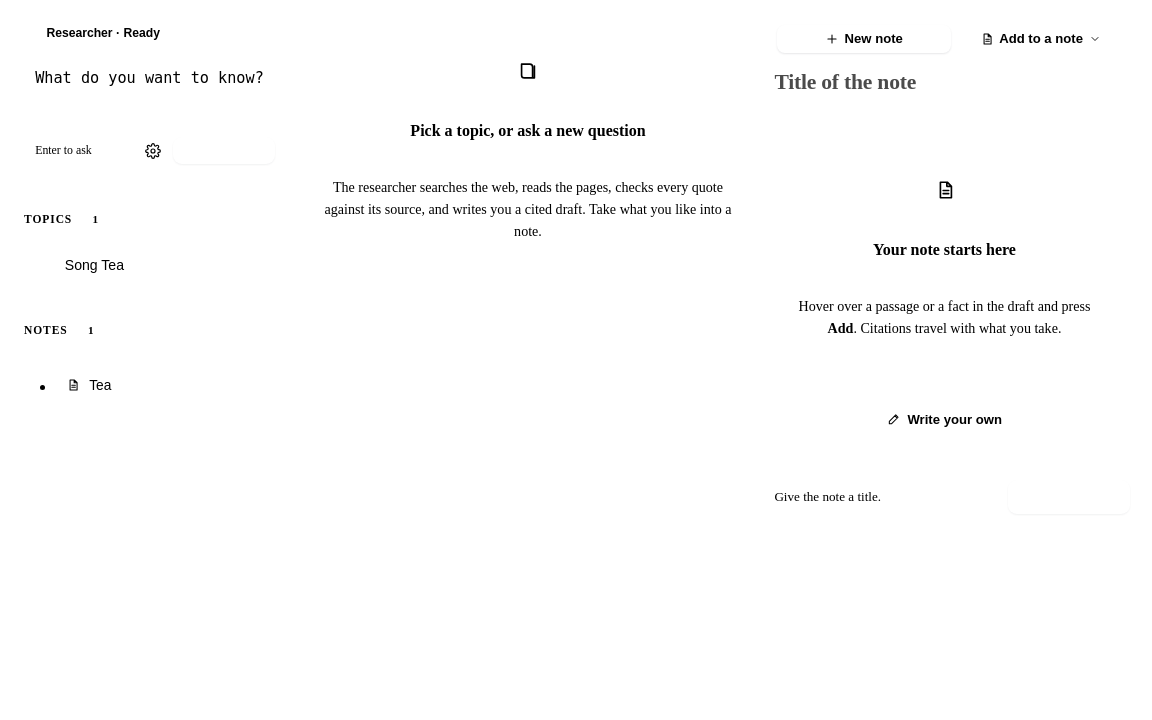
Scenario: Studio › keeps a whole draft as a note, and says where it went
Click the button "Song Tea" at [159, 265], box [46, 250, 273, 280]
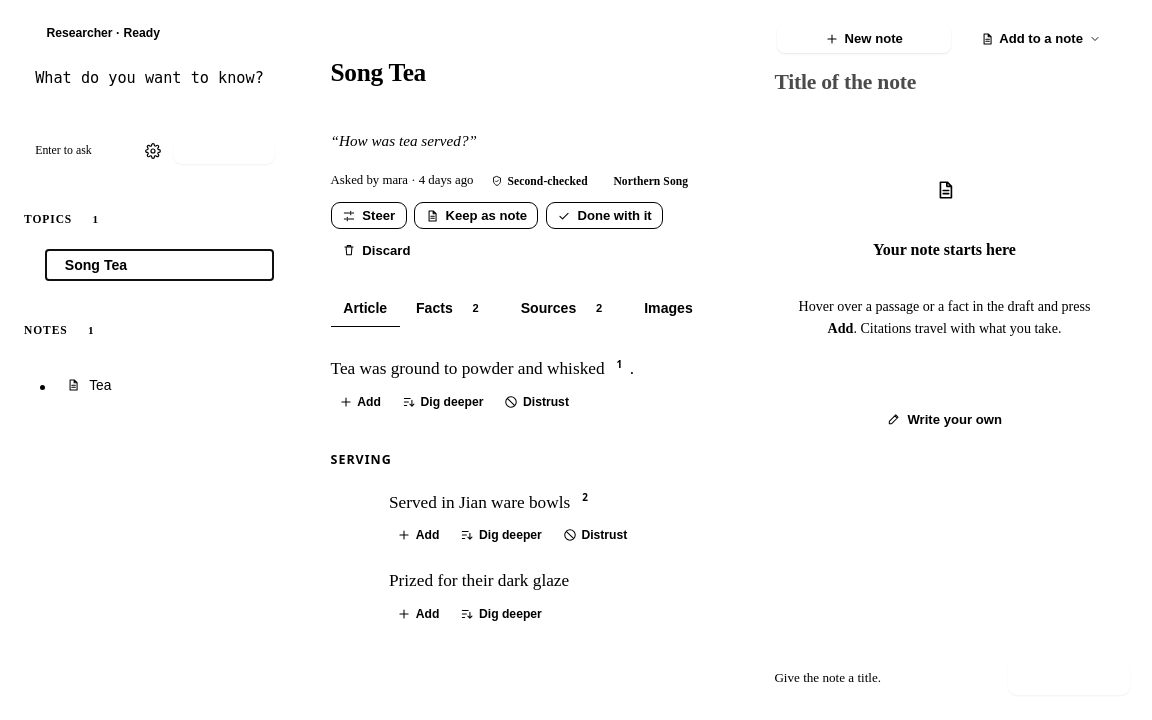
Click the button "Keep as note" at [476, 216], box [414, 202, 538, 230]
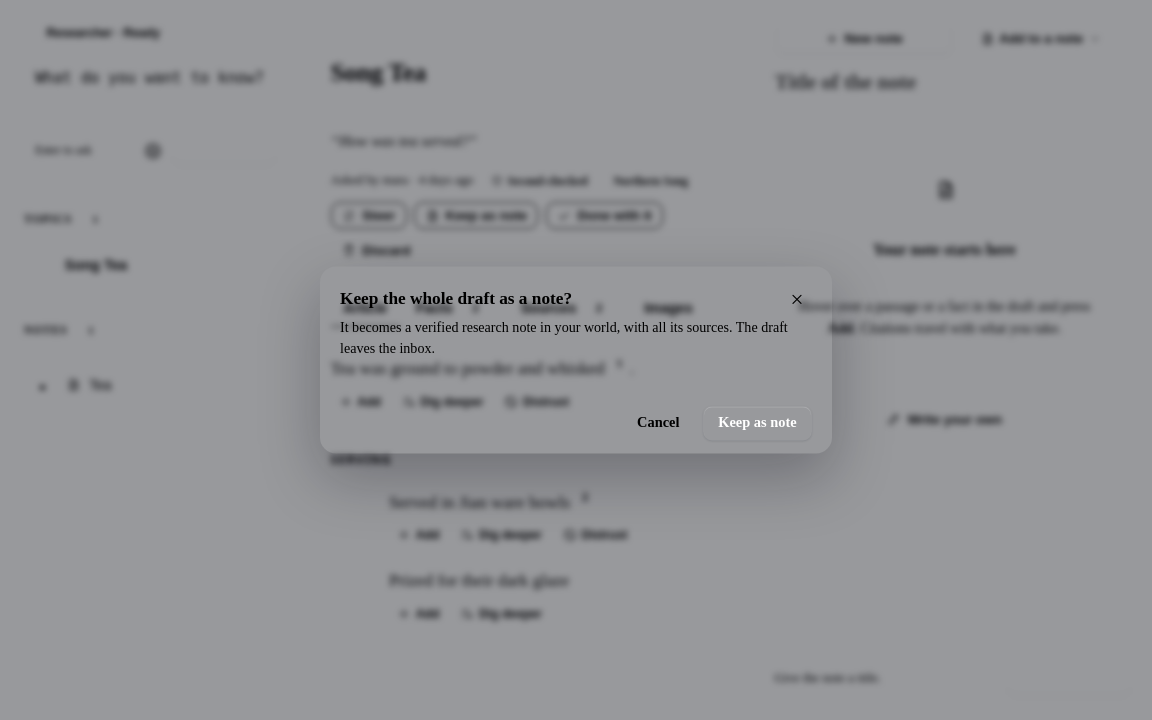
Click the button "Keep as note" at [757, 422], box [703, 405, 812, 440]
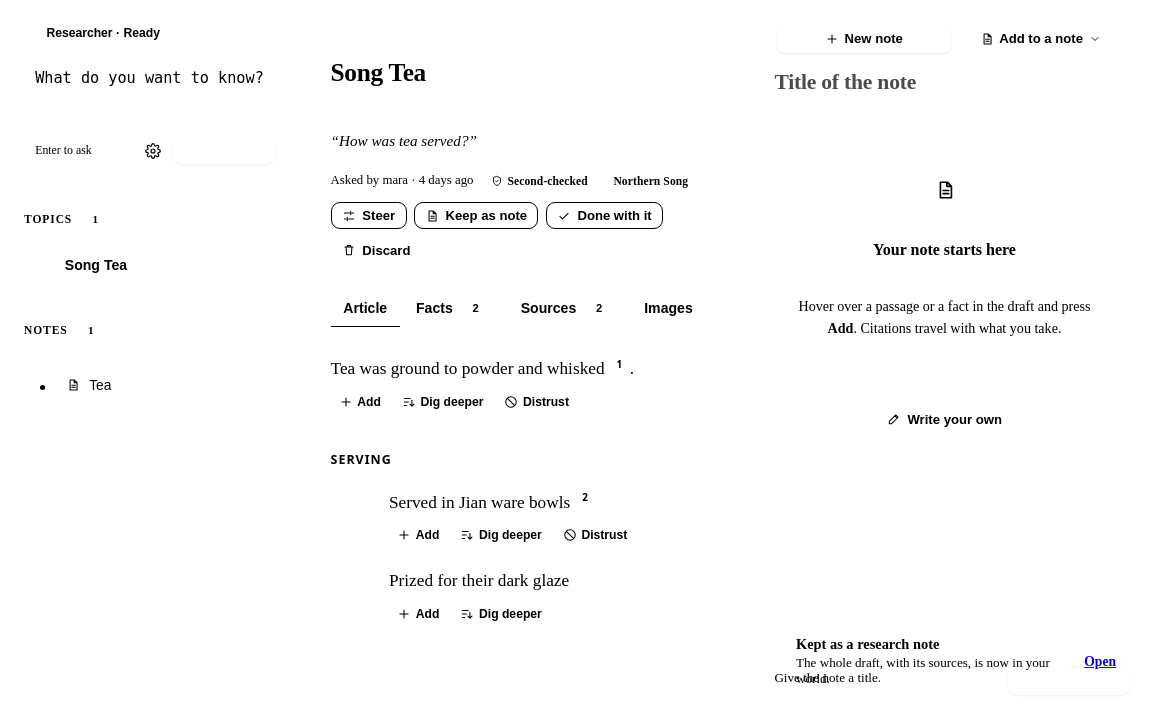
Check: the text "Kept as a research note" is shown, box [796, 636, 939, 652]
